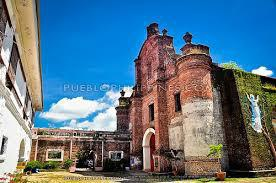santa_maria_church_santa_maria_ilocos_sur: (114, 19, 223, 181)
unfinished_paint: (164, 92, 225, 159)
water_damage_or_mold: (250, 135, 265, 156), (248, 73, 261, 91), (234, 69, 245, 87), (266, 90, 276, 108), (266, 116, 273, 130)
